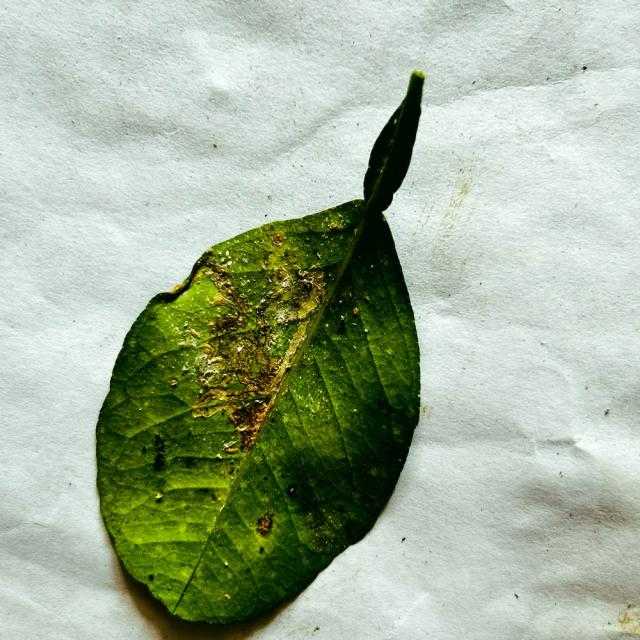Bacterial_Blight: (200, 326, 279, 394), (198, 365, 268, 435), (195, 263, 254, 337), (262, 266, 324, 327), (157, 255, 225, 307), (274, 309, 317, 375), (247, 235, 302, 283), (328, 286, 372, 337), (526, 60, 596, 88), (304, 507, 337, 546), (194, 353, 226, 386), (191, 397, 232, 419), (318, 209, 354, 231), (152, 432, 167, 470), (218, 461, 239, 479), (155, 290, 176, 304), (209, 261, 228, 276), (171, 283, 183, 294), (218, 502, 226, 513)
Lemon: (95, 72, 424, 628)
